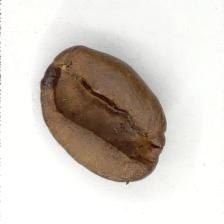NG: (50, 65, 144, 158)
